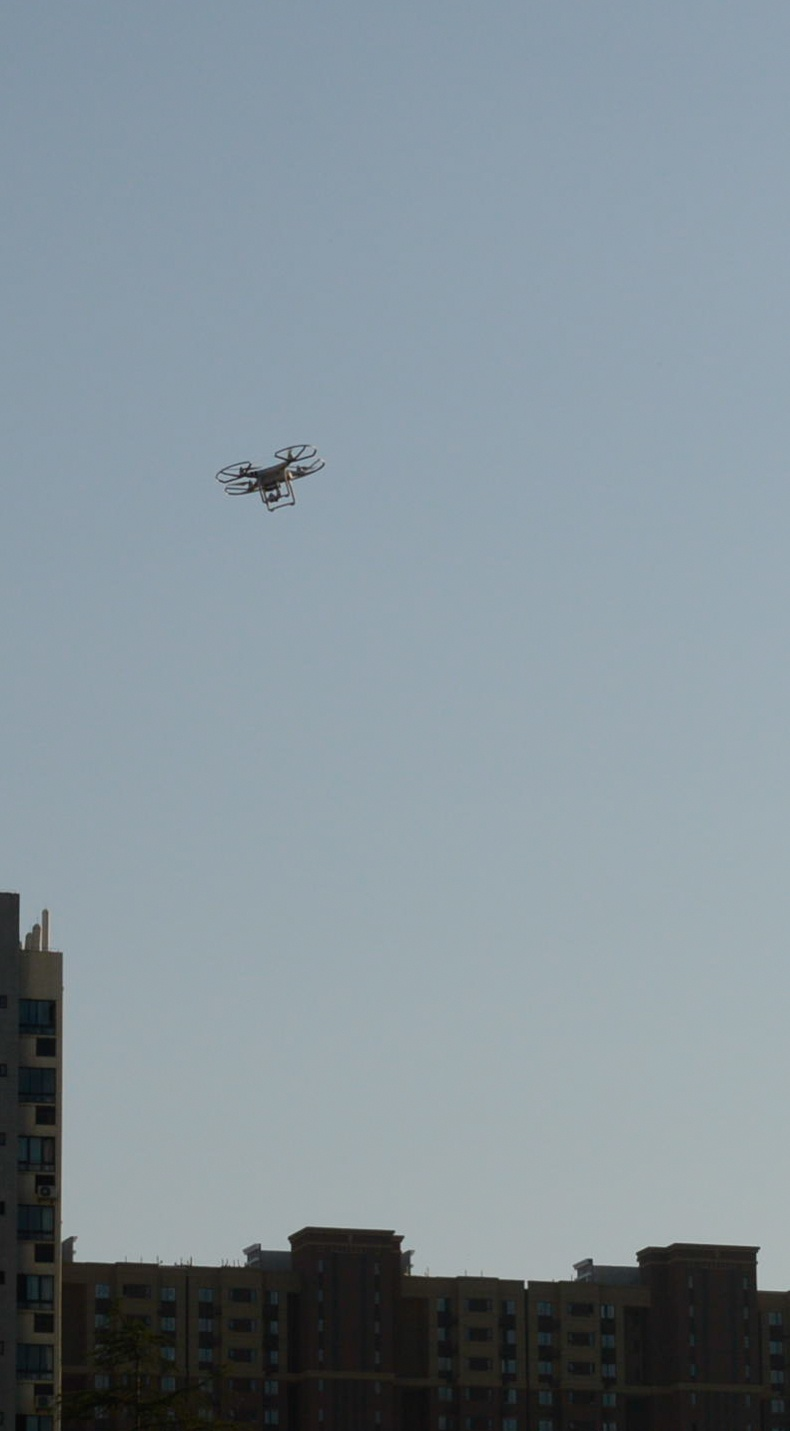DJI: (217, 442, 330, 512)
